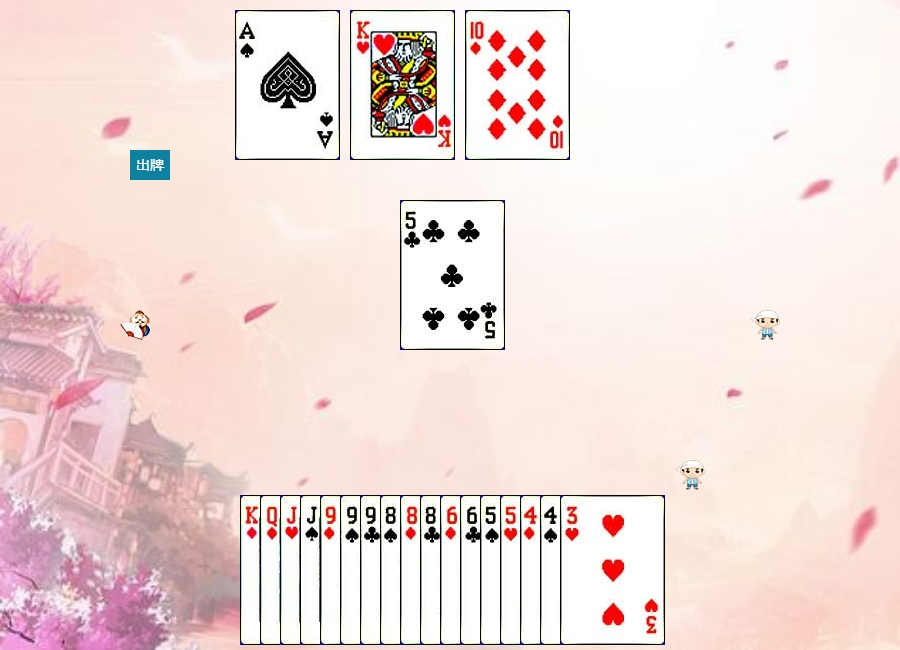10~1: (465, 10, 570, 160)
11~3: (280, 495, 385, 645)
11~4: (300, 495, 405, 645)
12~1: (260, 495, 365, 645)
13~1: (240, 495, 345, 645)
13~3: (350, 10, 455, 160)
14~4: (235, 10, 340, 160)
3~3: (560, 495, 665, 645)
4~1: (520, 495, 625, 645)
4~4: (540, 495, 645, 645)
5~2: (400, 200, 505, 350)
5~3: (500, 495, 605, 645)
5~4: (480, 495, 585, 645)
6~1: (440, 495, 545, 645)
6~2: (460, 495, 565, 645)
8~1: (400, 495, 505, 645)
8~2: (420, 495, 525, 645)
8~4: (380, 495, 485, 645)
9~1: (320, 495, 425, 645)
9~2: (360, 495, 465, 645)
9~4: (340, 495, 445, 645)
